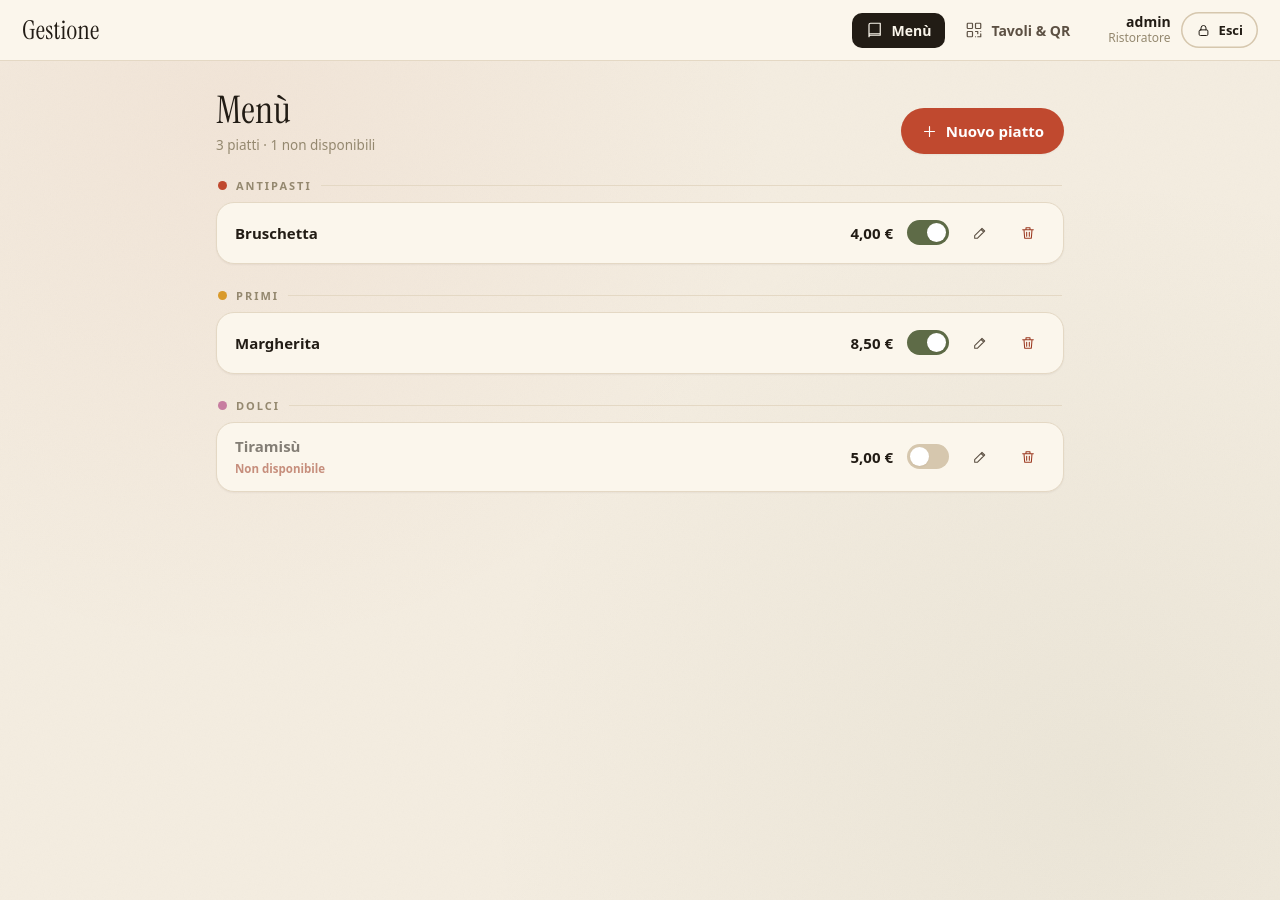
Test: menu › non invia un prezzo non valido e lo dice
Click the button "Nuovo piatto": coordinates (982, 131) x1=901 y1=108 x2=1064 y2=154
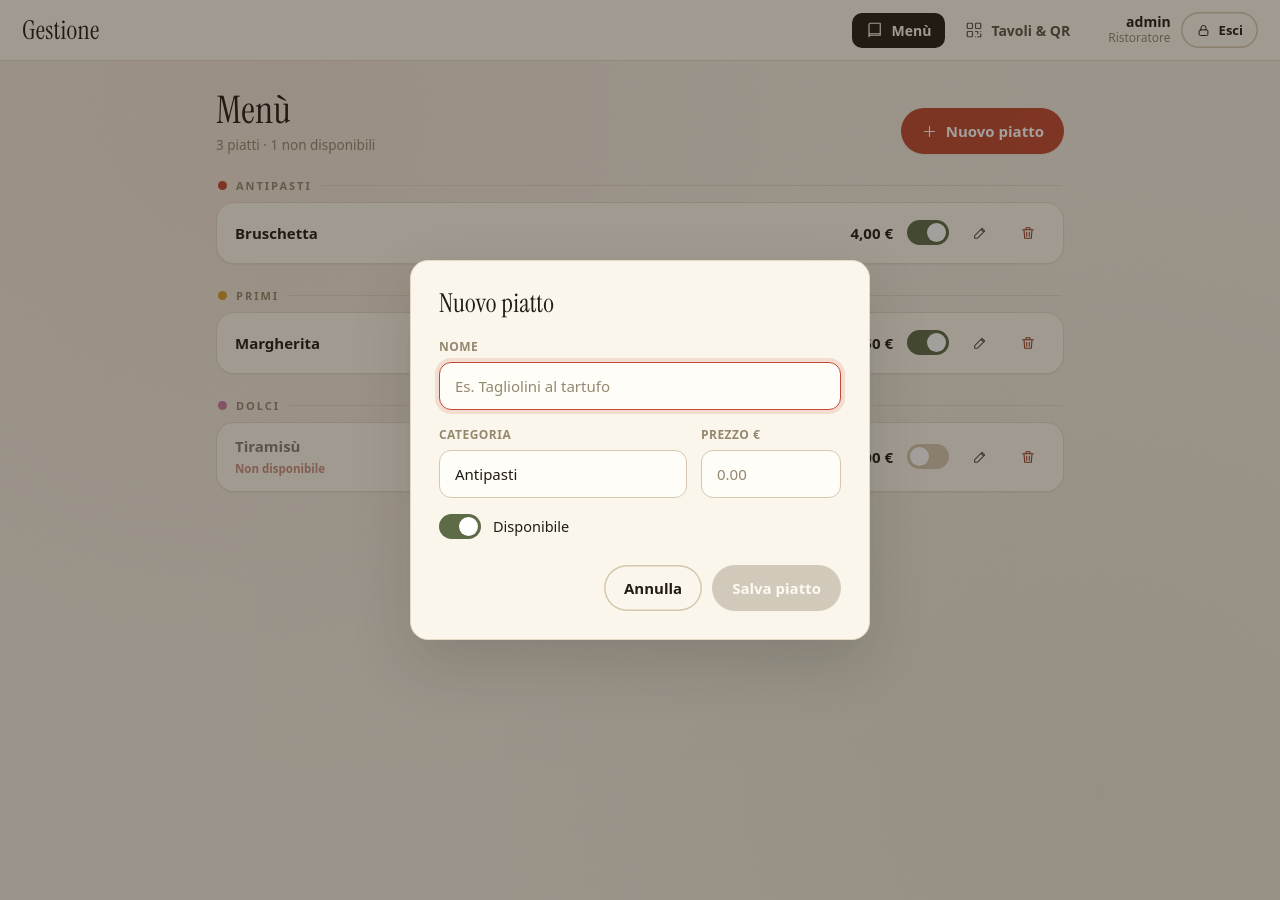
In the field labelled "Nome": coordinates (640, 386) x1=439 y1=362 x2=841 y2=410, type "Vino"
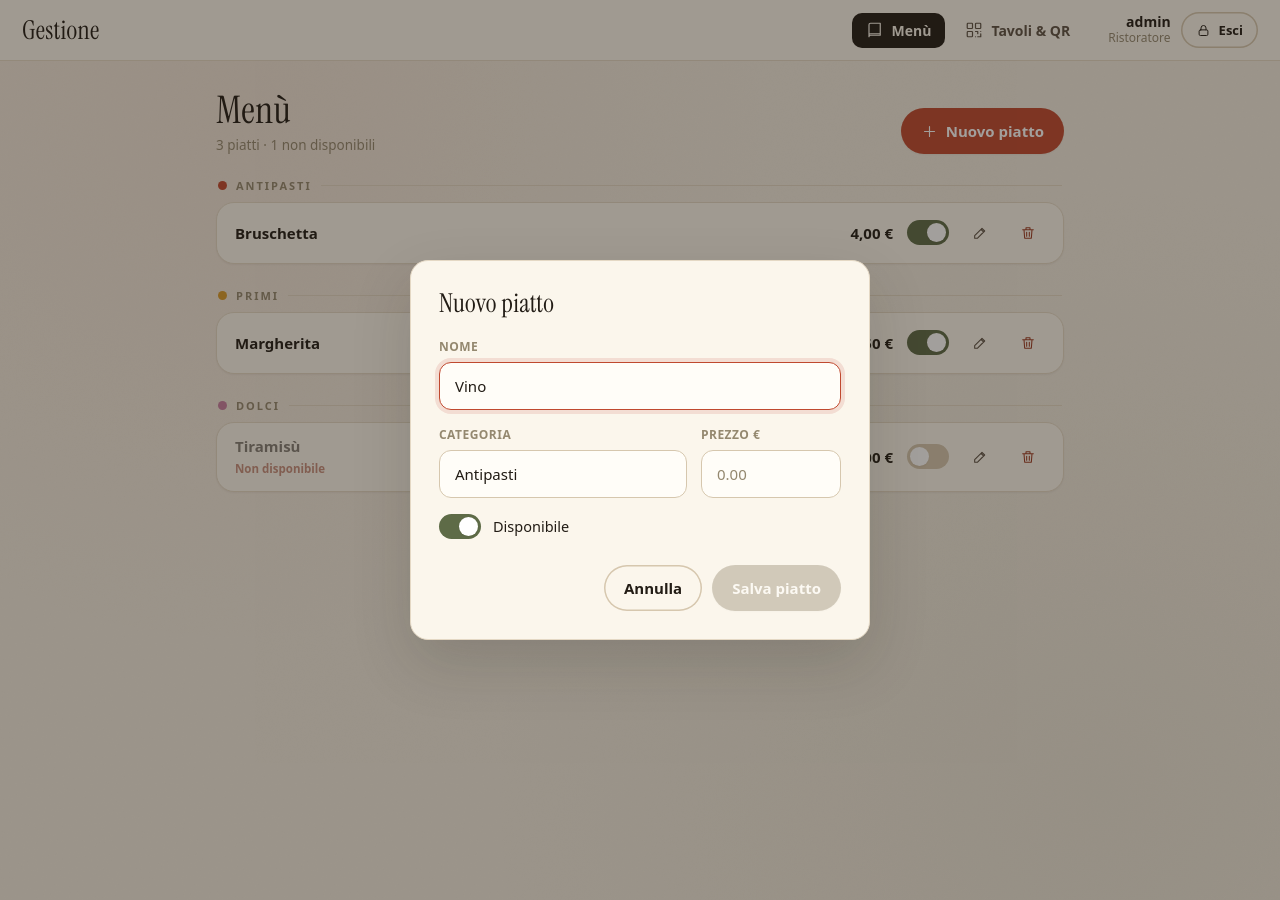
In the field labelled "Prezzo €": coordinates (771, 474) x1=701 y1=450 x2=841 y2=498, type "3.999"
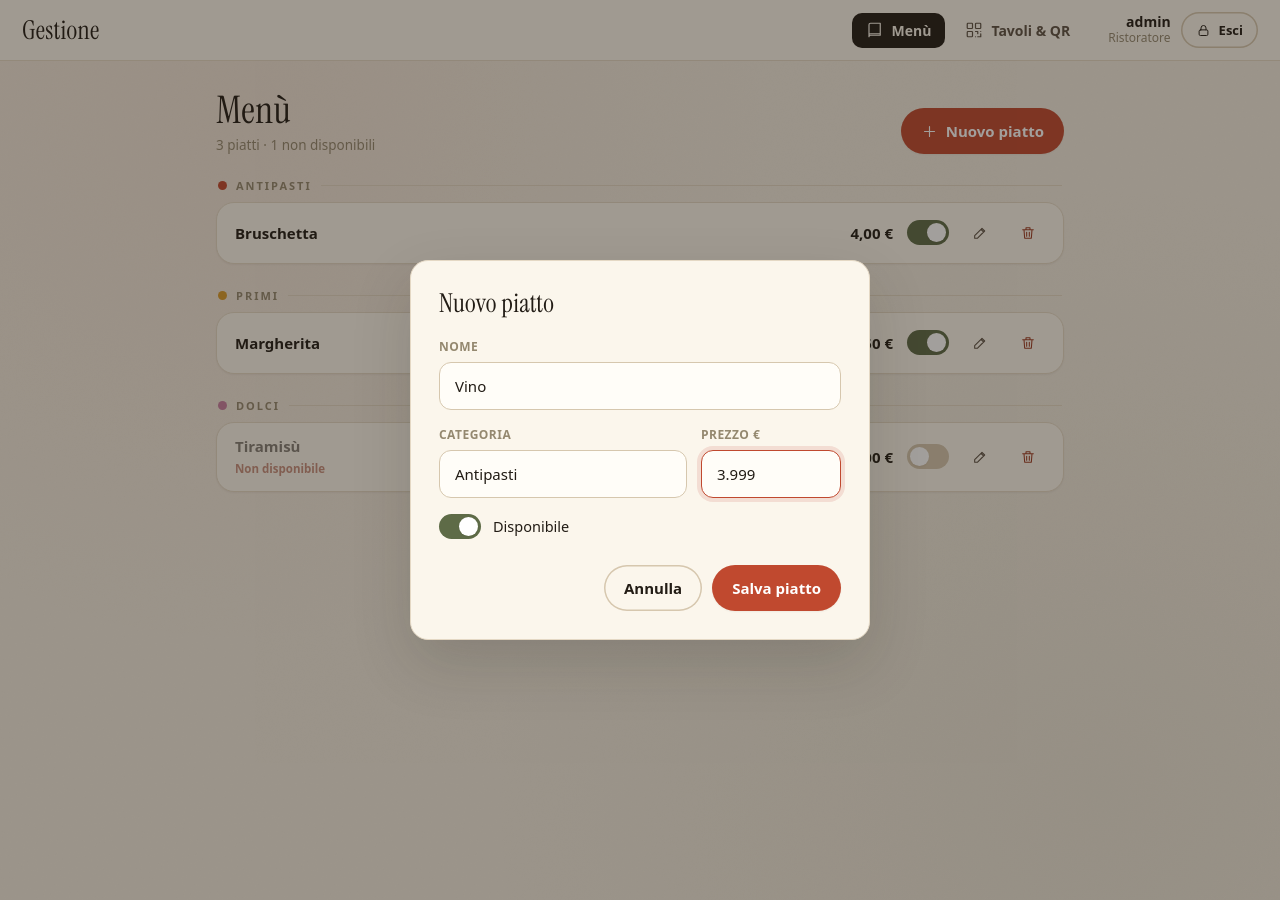
Click the button "Salva piatto": coordinates (777, 588) x1=712 y1=564 x2=841 y2=610
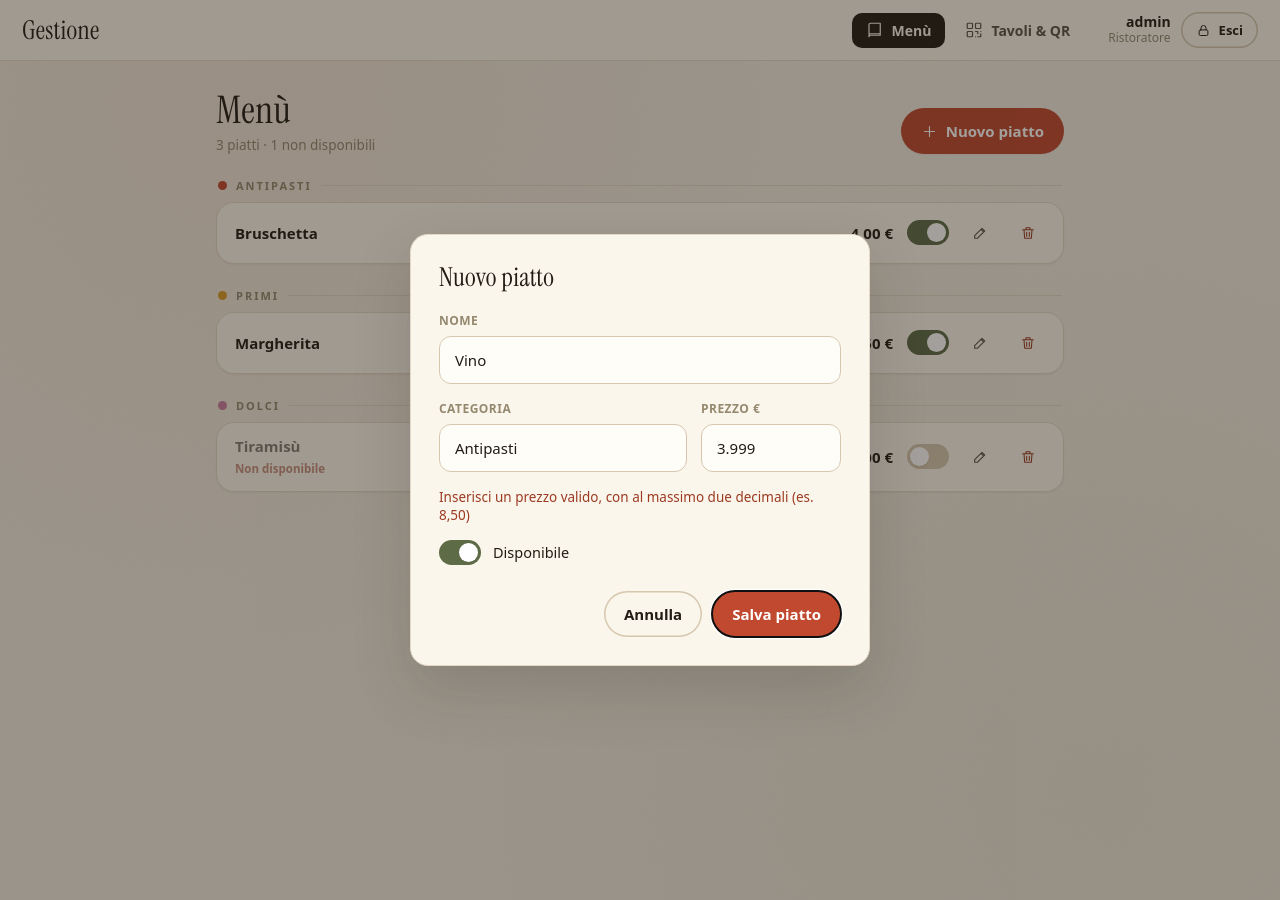
Now the message shows "al massimo due decimali", box x1=439 y1=488 x2=814 y2=524
